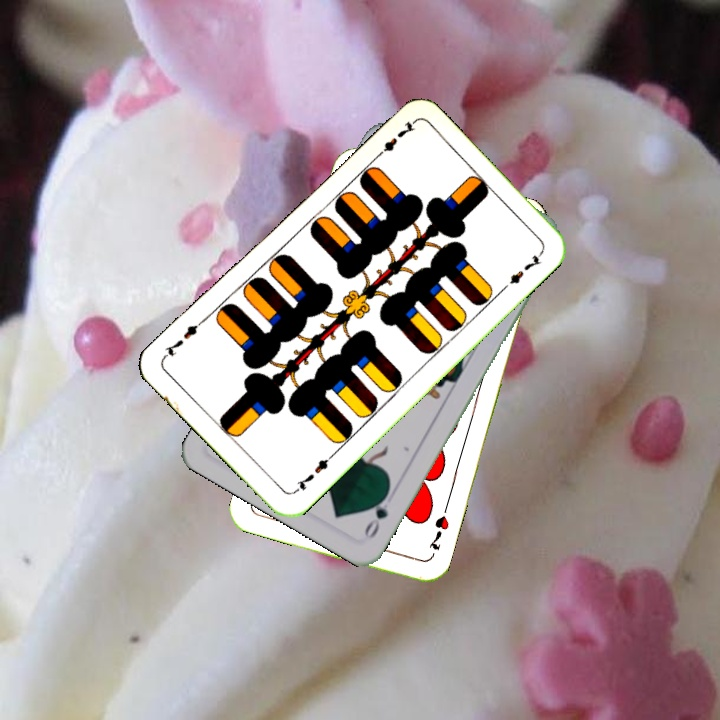E7: (370, 117, 418, 163), (289, 450, 336, 496)
GO: (360, 486, 392, 541)
H7: (424, 512, 452, 553)
